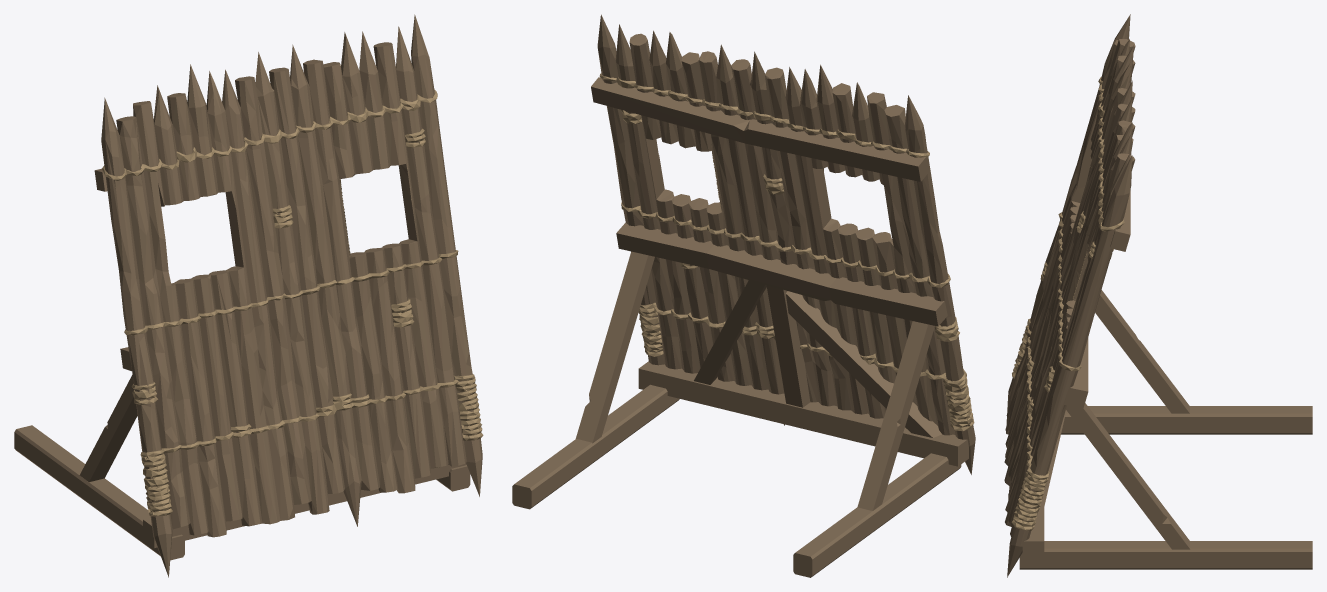
The model's file is siege_shield_c.FBX.
3 views of the same model, side by side, from view 1: azimuth 30°, elevation 25°; view 2: azimuth 150°, elevation 25°; view 3: azimuth 270°, elevation 25° (orthographic). The views are drawn at different scales.
Visible parts, largest first — view 1: siege_shield_c; view 2: siege_shield_c; view 3: siege_shield_c.
Boxes of the visible parts, x1,y1,x2,y2 form: siege_shield_c: [14, 14, 483, 577]; siege_shield_c: [512, 14, 975, 577]; siege_shield_c: [1004, 14, 1312, 577].
Size of the model in its own units: 2.42 by 3.09 by 2.
